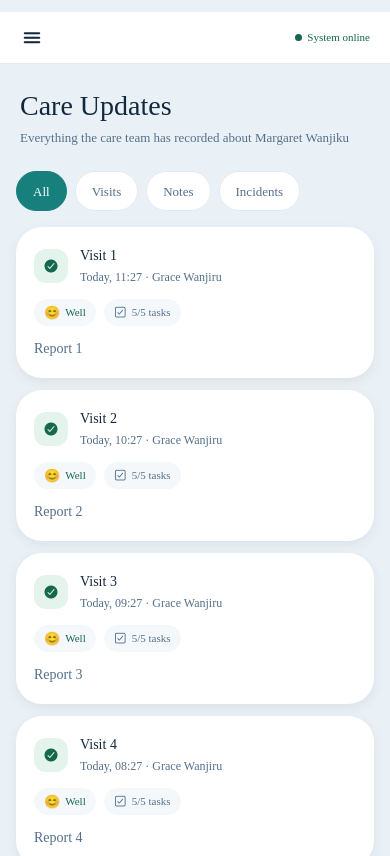
Test case: filters › reassures rather than alarms when there has never been an incident
Expected: the text "Visit 1" is shown, top-left (80, 245), bottom-right (117, 267)
Click the radio button labelled "Incidents" at (259, 191), box top-left (218, 171), bottom-right (300, 211)
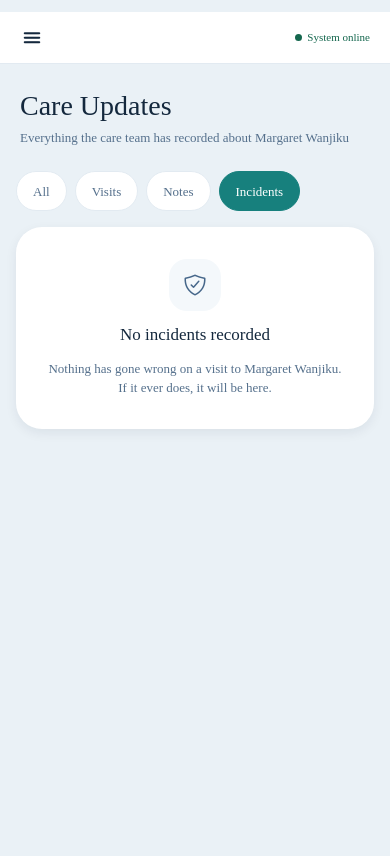
Expected: the heading "No incidents recorded" is shown, top-left (120, 323), bottom-right (270, 347)
